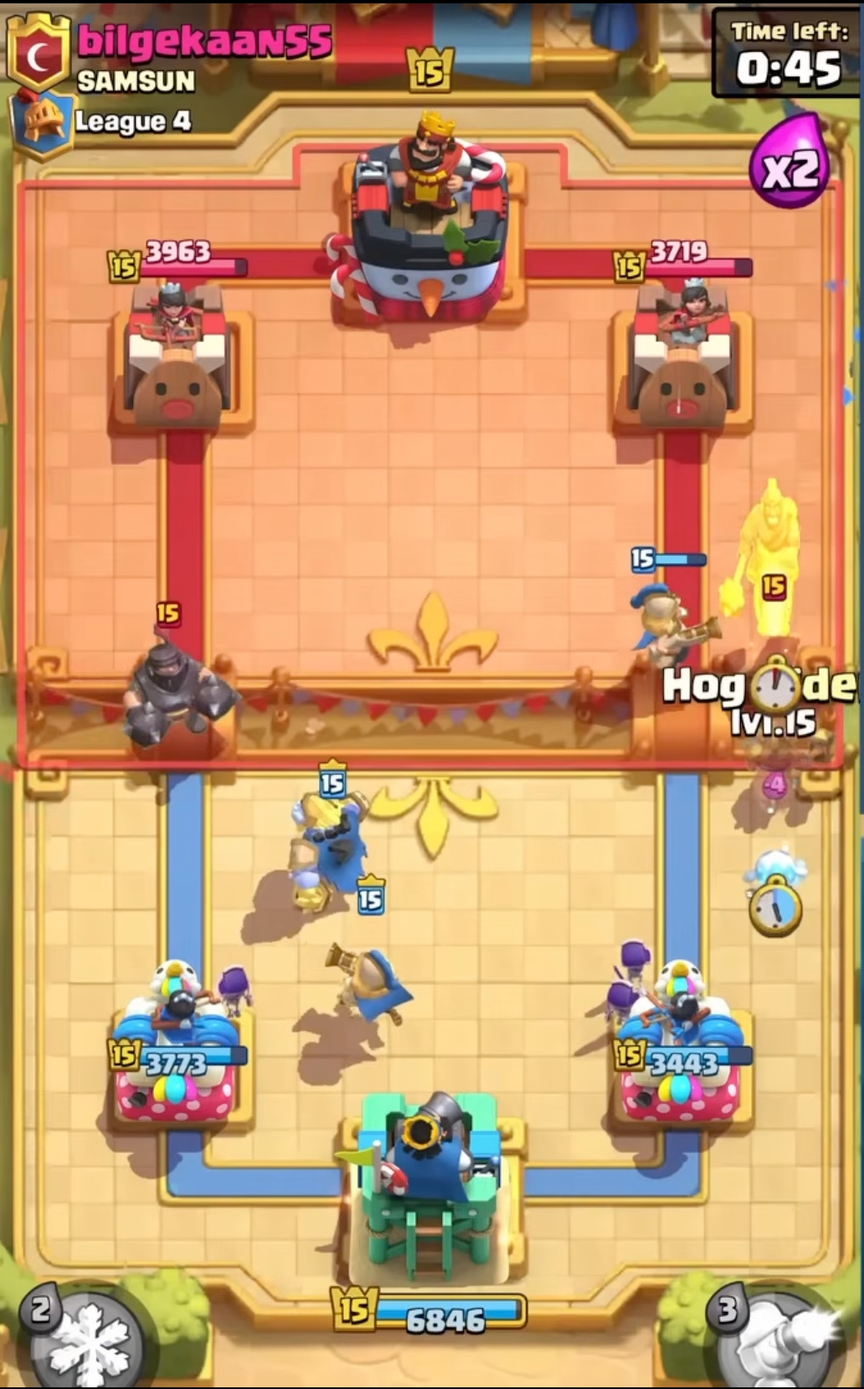evo_skeletons: (608, 929, 658, 990), (214, 961, 256, 1025), (600, 973, 640, 1028)
hero_ice_golem: (278, 760, 387, 929)
hero_musketeer: (618, 541, 723, 686), (315, 923, 420, 1043)
ice_spirit: (739, 840, 818, 941)
